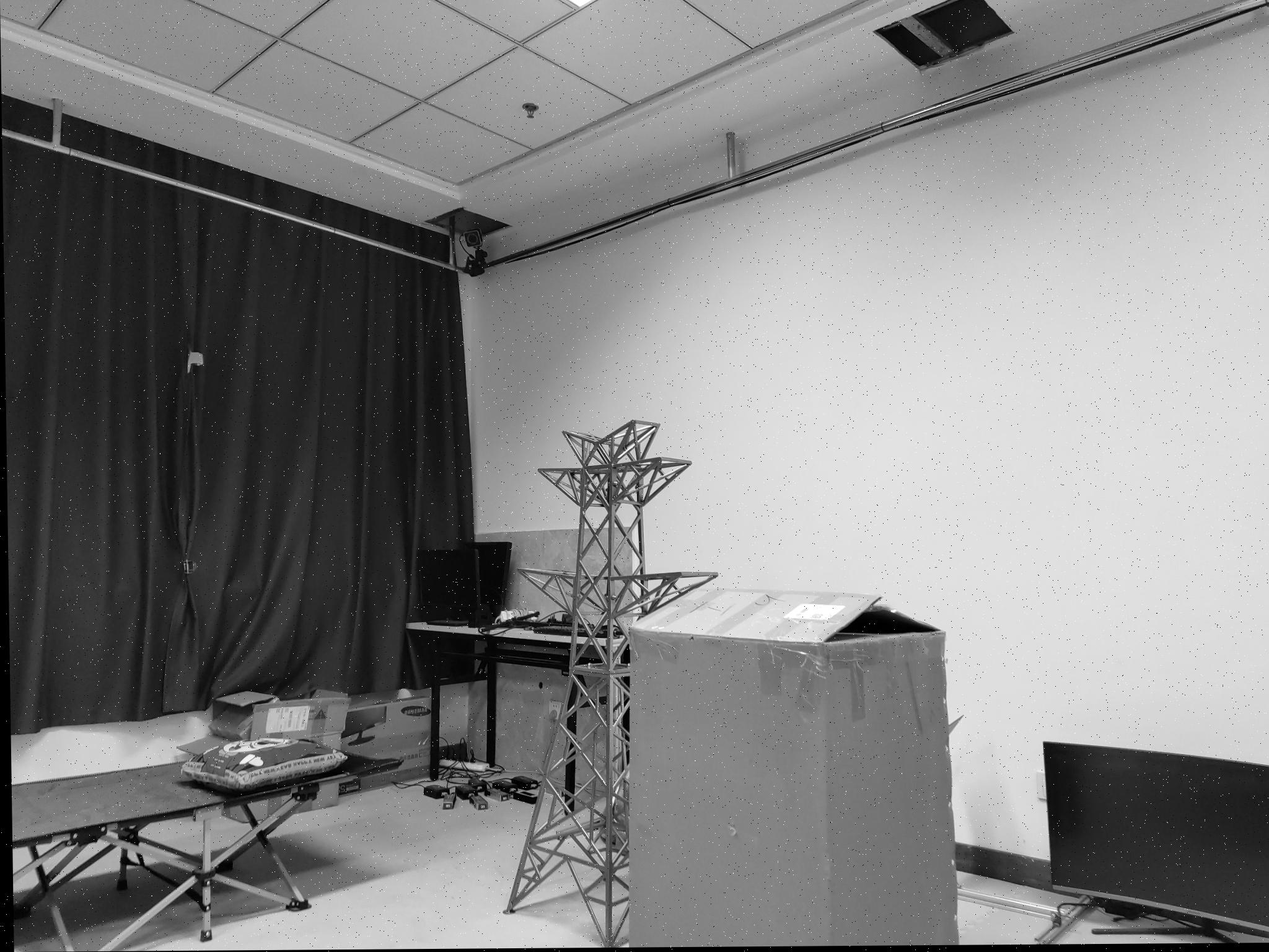tower: (501, 420, 656, 917)
